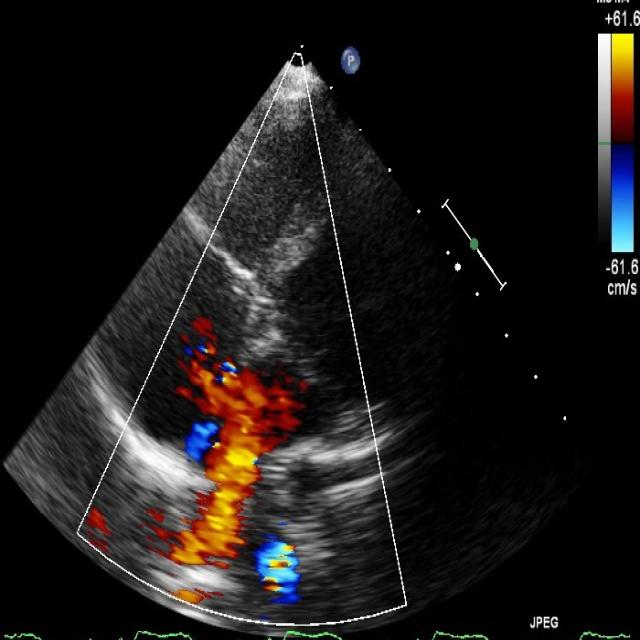ASDType2: (185, 345, 298, 472)
